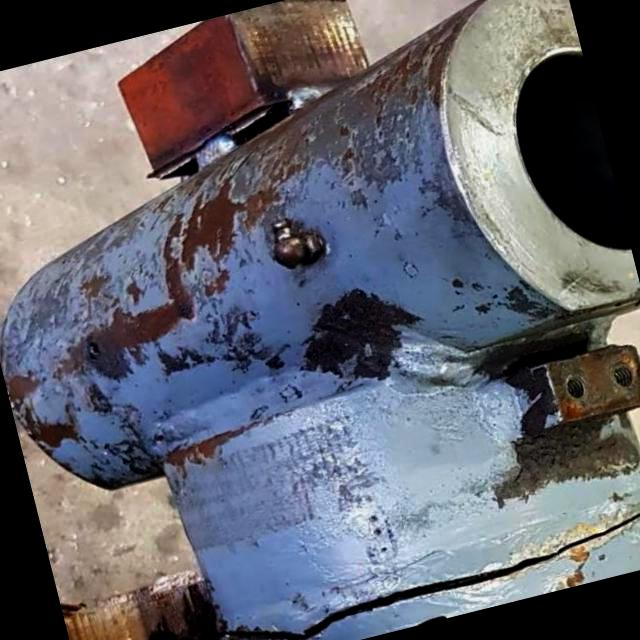defect: (201, 508, 640, 640)
